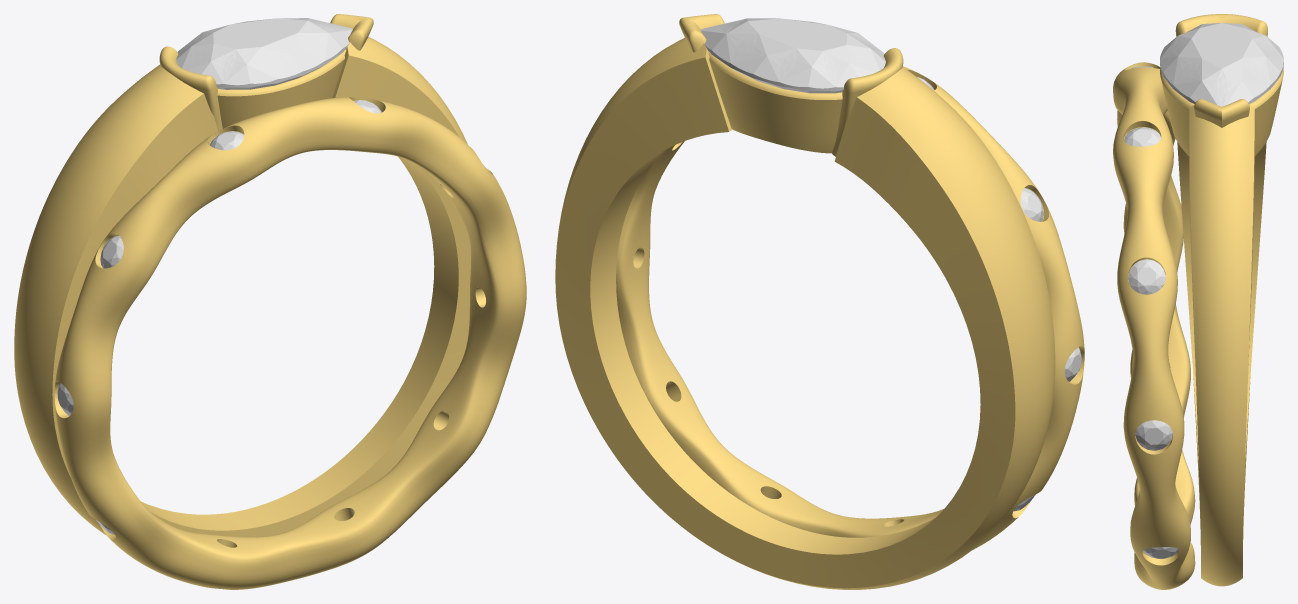
File: PhoebeYGboth_blender.glb
3 renders of one model, left to right at view 1: azimuth 30°, elevation 25°; view 2: azimuth 150°, elevation 25°; view 3: azimuth 270°, elevation 25°, orthographic. The views are drawn at different scales.
Parts seen in each view (by area): view 1: Phoebe YG for 3d model.001, Phoebe YG for 3d model, Phoebe dia for 3d model.010, Phoebe YG for 3d model.004, Phoebe YG for 3d model.003, Phoebe YG for 3d model.002; view 2: Phoebe YG for 3d model, Phoebe YG for 3d model.001, Phoebe dia for 3d model.010, Phoebe YG for 3d model.004, Phoebe YG for 3d model.003, Phoebe YG for 3d model.002; view 3: Phoebe YG for 3d model, Phoebe YG for 3d model.001, Phoebe dia for 3d model.010, Phoebe YG for 3d model.004, Phoebe YG for 3d model.002, Phoebe dia for 3d model.008, Phoebe YG for 3d model.003, Phoebe dia for 3d model.007, Phoebe dia for 3d model.009, Phoebe dia for 3d model.006.
Part boxes in pixels (x1=…): Phoebe YG for 3d model.001: x1=54, y1=97, x2=526, y2=589; Phoebe YG for 3d model: x1=14, y1=37, x2=470, y2=537; Phoebe dia for 3d model.010: x1=176, y1=18, x2=352, y2=89; Phoebe YG for 3d model.004: x1=217, y1=49, x2=346, y2=128; Phoebe YG for 3d model.003: x1=159, y1=46, x2=222, y2=130; Phoebe YG for 3d model.002: x1=330, y1=14, x2=373, y2=50; Phoebe YG for 3d model: x1=555, y1=38, x2=1055, y2=589; Phoebe YG for 3d model.001: x1=616, y1=66, x2=1084, y2=549; Phoebe dia for 3d model.010: x1=701, y1=18, x2=885, y2=93; Phoebe YG for 3d model.004: x1=708, y1=51, x2=842, y2=153; Phoebe YG for 3d model.003: x1=832, y1=48, x2=903, y2=156; Phoebe YG for 3d model.002: x1=679, y1=14, x2=724, y2=52; Phoebe YG for 3d model: x1=1177, y1=17, x2=1266, y2=586; Phoebe YG for 3d model.001: x1=1113, y1=62, x2=1195, y2=589; Phoebe dia for 3d model.010: x1=1160, y1=23, x2=1283, y2=106; Phoebe YG for 3d model.004: x1=1160, y1=68, x2=1283, y2=156; Phoebe YG for 3d model.002: x1=1194, y1=99, x2=1249, y2=127; Phoebe dia for 3d model.008: x1=1128, y1=259, x2=1165, y2=294; Phoebe YG for 3d model.003: x1=1175, y1=14, x2=1267, y2=36; Phoebe dia for 3d model.007: x1=1135, y1=420, x2=1172, y2=450; Phoebe dia for 3d model.009: x1=1124, y1=127, x2=1160, y2=146; Phoebe dia for 3d model.006: x1=1143, y1=547, x2=1179, y2=558.
Size of the model in its own units: 22.58 by 24.61 by 7.31.
